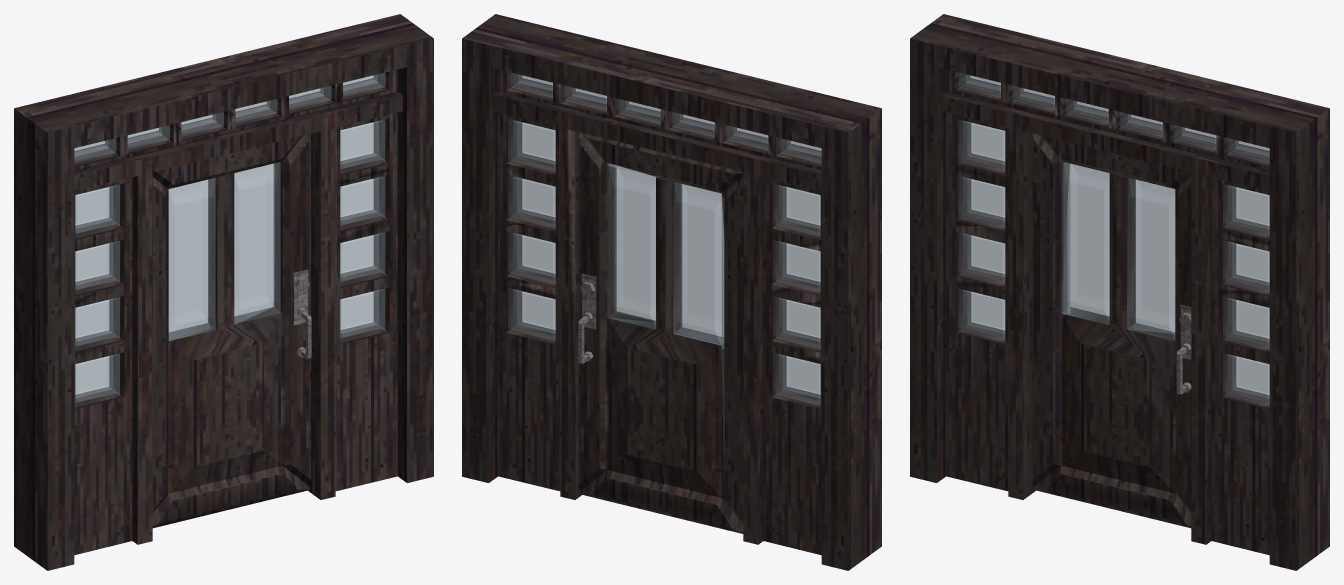
File: main_door.fbx
The picture shows the model from 3 angles, left to right: view 1: azimuth 30°, elevation 25°; view 2: azimuth 150°, elevation 25°; view 3: azimuth 330°, elevation 25°; orthographic projection.
Visible parts, largest first — view 1: Door and Frame 3; view 2: Door and Frame 3; view 3: Door and Frame 3.
Boxes of the visible parts, left/top/right/bottom form: Door and Frame 3: left=14, top=14, right=433, bottom=570; Door and Frame 3: left=462, top=14, right=881, bottom=570; Door and Frame 3: left=910, top=14, right=1329, bottom=570.
Size of the model in its own units: 257 by 279 by 42.06.
